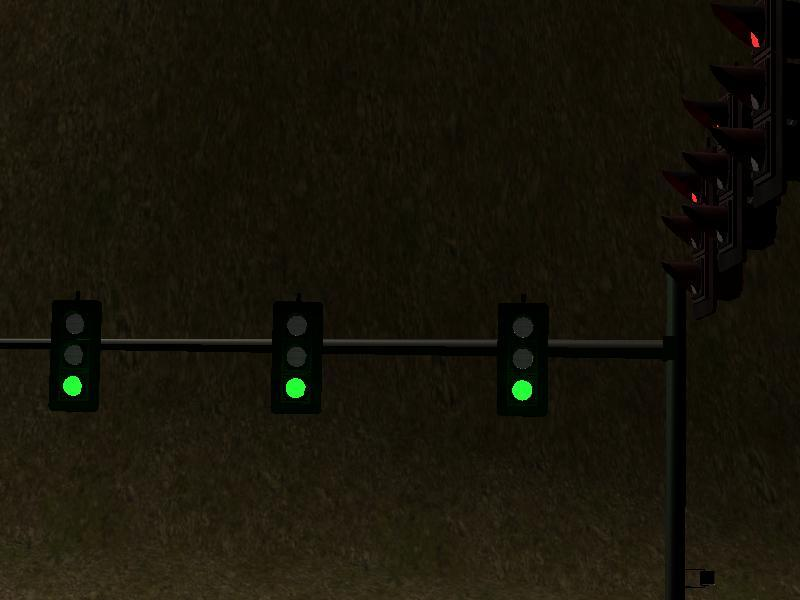Green: (492, 300, 547, 416), (52, 298, 99, 412), (274, 302, 320, 408)
